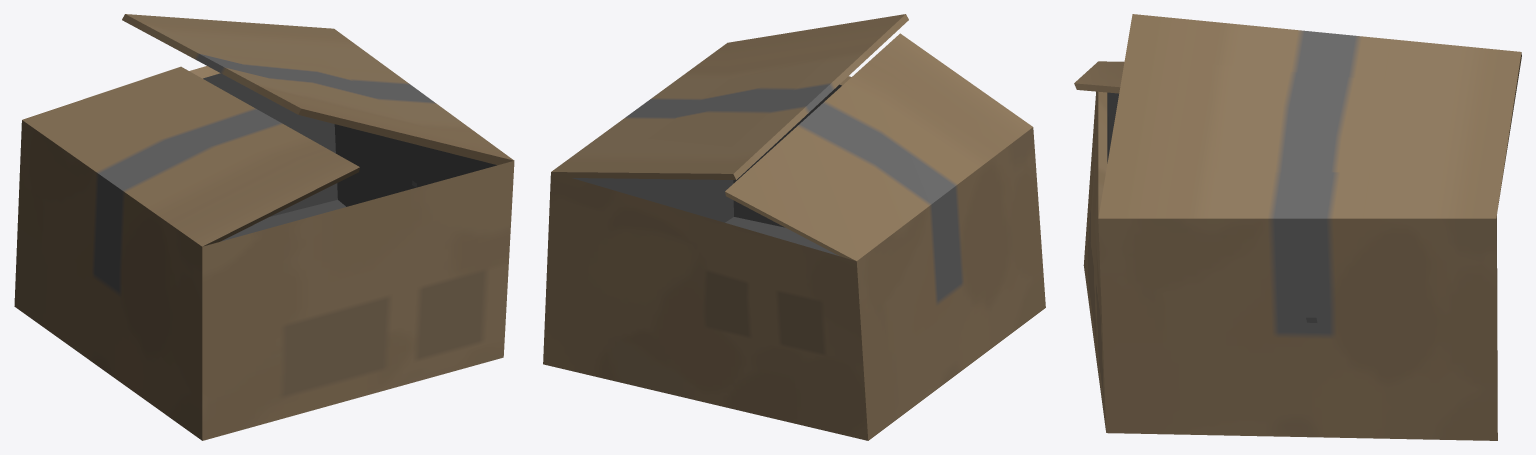
The picture shows the model from 3 angles, left to right: view 1: azimuth 30°, elevation 25°; view 2: azimuth 150°, elevation 25°; view 3: azimuth 270°, elevation 25°; orthographic projection. The views are drawn at different scales.
Visible parts, largest first — view 1: Box_A2; view 2: Box_A2; view 3: Box_A2.
Boxes of the visible parts, <box> form: Box_A2: <box>14,14,514,440</box>; Box_A2: <box>543,14,1045,440</box>; Box_A2: <box>1074,14,1521,440</box>.
Size of the model in its own units: 105 by 87.74 by 113.
1 material, 1 textured.
